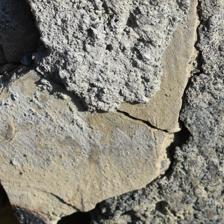Crack: (56, 53, 131, 87)
